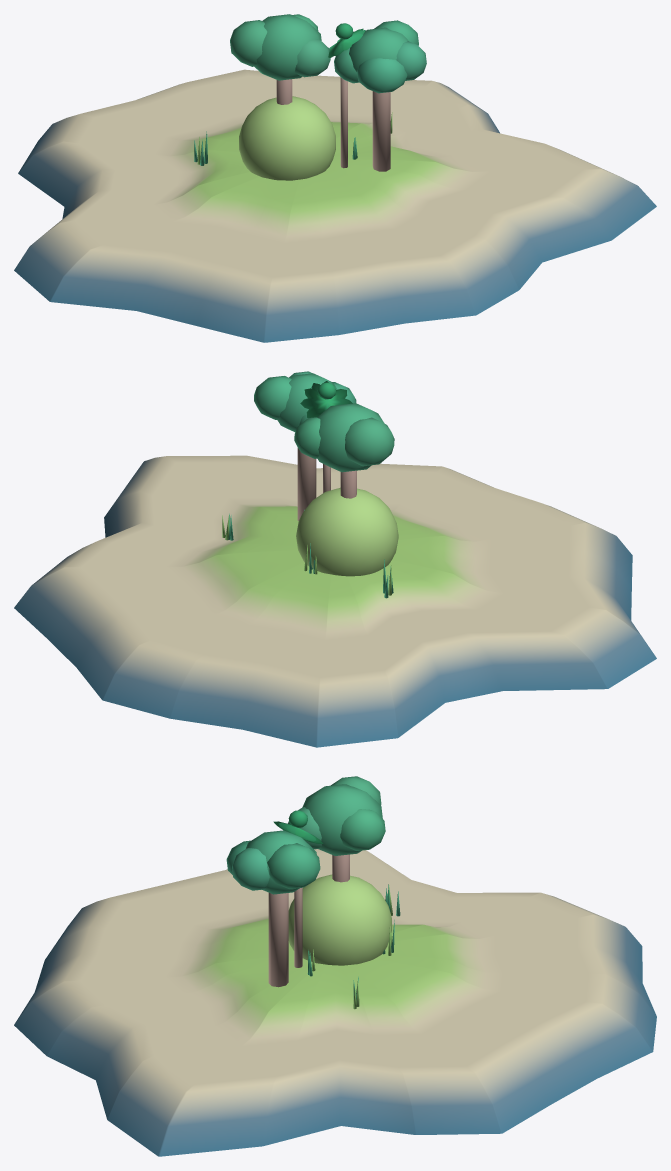
File: terrain_island_16.glb
The picture shows the model from 3 angles, top to bottom: view 1: azimuth 30°, elevation 25°; view 2: azimuth 150°, elevation 25°; view 3: azimuth 270°, elevation 25°; orthographic projection. The views are drawn at different scales.
Parts seen in each view (by area): view 1: island_terrain, hill0, veg_tree1_tree_crown_c, veg_tree0_tree_crown_c, veg_tree0_tree_trunk, veg_tree0_tree_crown_2, veg_tree1_tree_crown_2, veg_tree1_tree_crown_1, veg_tree0_tree_crown_1, veg_tree2_palm_trunk, veg_tree0_tree_crown_3; view 2: island_terrain, hill0, veg_tree1_tree_crown_c, veg_tree1_tree_crown_2, veg_tree0_tree_crown_c, veg_tree0_tree_crown_0, veg_tree0_tree_trunk, veg_tree1_tree_crown_0; view 3: island_terrain, hill0, veg_tree1_tree_crown_c, veg_tree0_tree_trunk, veg_tree0_tree_crown_0, veg_tree1_tree_crown_0, veg_tree0_tree_crown_1, veg_tree0_tree_crown_c, veg_tree2_palm_trunk.
Boxes of the visible parts, bbox=[...] form: island_terrain: bbox=[14, 69, 656, 342]; hill0: bbox=[239, 96, 335, 180]; veg_tree1_tree_crown_c: bbox=[254, 14, 321, 80]; veg_tree0_tree_crown_c: bbox=[349, 27, 408, 71]; veg_tree0_tree_trunk: bbox=[372, 91, 390, 171]; veg_tree0_tree_crown_2: bbox=[357, 58, 407, 93]; veg_tree1_tree_crown_2: bbox=[230, 20, 267, 66]; veg_tree1_tree_crown_1: bbox=[294, 39, 330, 77]; veg_tree0_tree_crown_1: bbox=[396, 41, 426, 80]; veg_tree2_palm_trunk: bbox=[340, 77, 347, 168]; veg_tree0_tree_crown_3: bbox=[334, 48, 359, 83]; island_terrain: bbox=[14, 455, 656, 747]; hill0: bbox=[296, 487, 398, 576]; veg_tree1_tree_crown_c: bbox=[317, 403, 383, 472]; veg_tree1_tree_crown_2: bbox=[345, 417, 394, 466]; veg_tree0_tree_crown_c: bbox=[277, 373, 337, 431]; veg_tree0_tree_crown_0: bbox=[254, 376, 291, 419]; veg_tree0_tree_trunk: bbox=[297, 447, 316, 520]; veg_tree1_tree_crown_0: bbox=[294, 417, 320, 458]; island_terrain: bbox=[14, 849, 656, 1156]; hill0: bbox=[288, 874, 391, 965]; veg_tree1_tree_crown_c: bbox=[302, 784, 382, 855]; veg_tree0_tree_trunk: bbox=[268, 893, 288, 987]; veg_tree0_tree_crown_0: bbox=[267, 843, 320, 888]; veg_tree1_tree_crown_0: bbox=[340, 809, 385, 850]; veg_tree0_tree_crown_1: bbox=[232, 848, 269, 890]; veg_tree0_tree_crown_c: bbox=[246, 830, 314, 894]; veg_tree2_palm_trunk: bbox=[294, 887, 302, 967].
Size of the model in its own units: 168 by 57.35 by 156.
